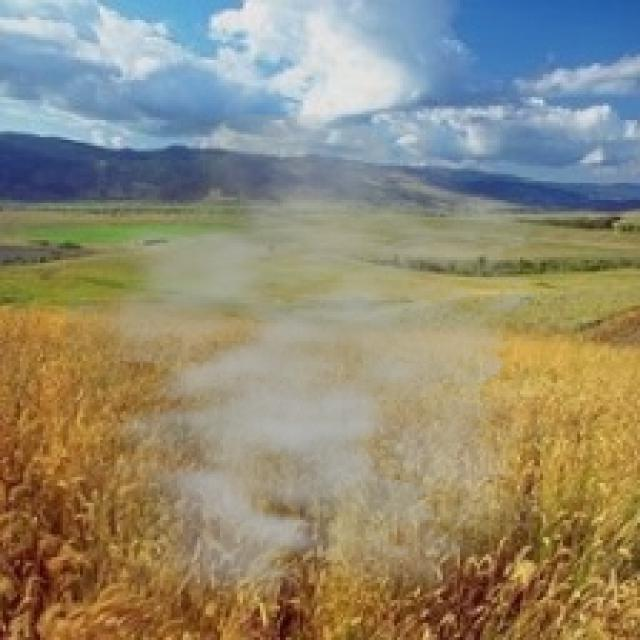smoke: (66, 115, 600, 634)
